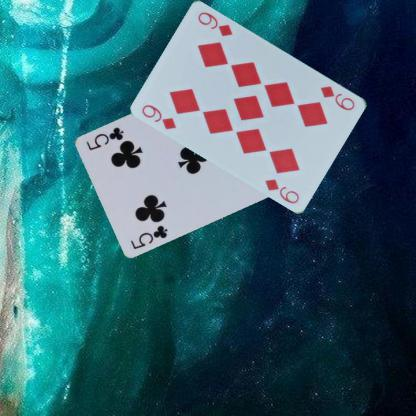5c: (128, 222, 169, 250)
9d: (139, 102, 178, 131), (318, 83, 356, 112)
